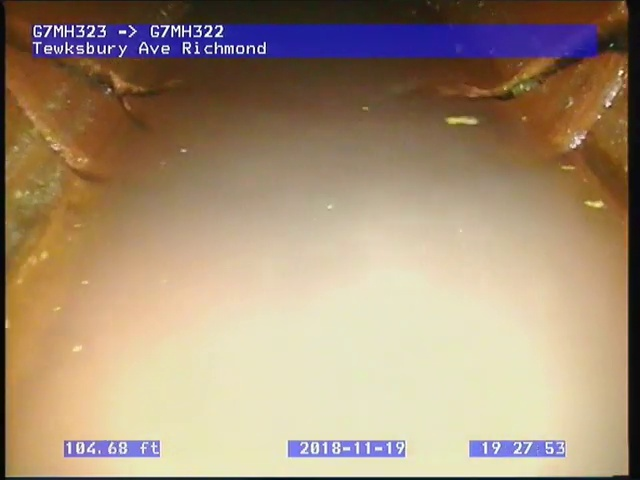crack: (5, 28, 180, 138), (466, 25, 629, 104)
